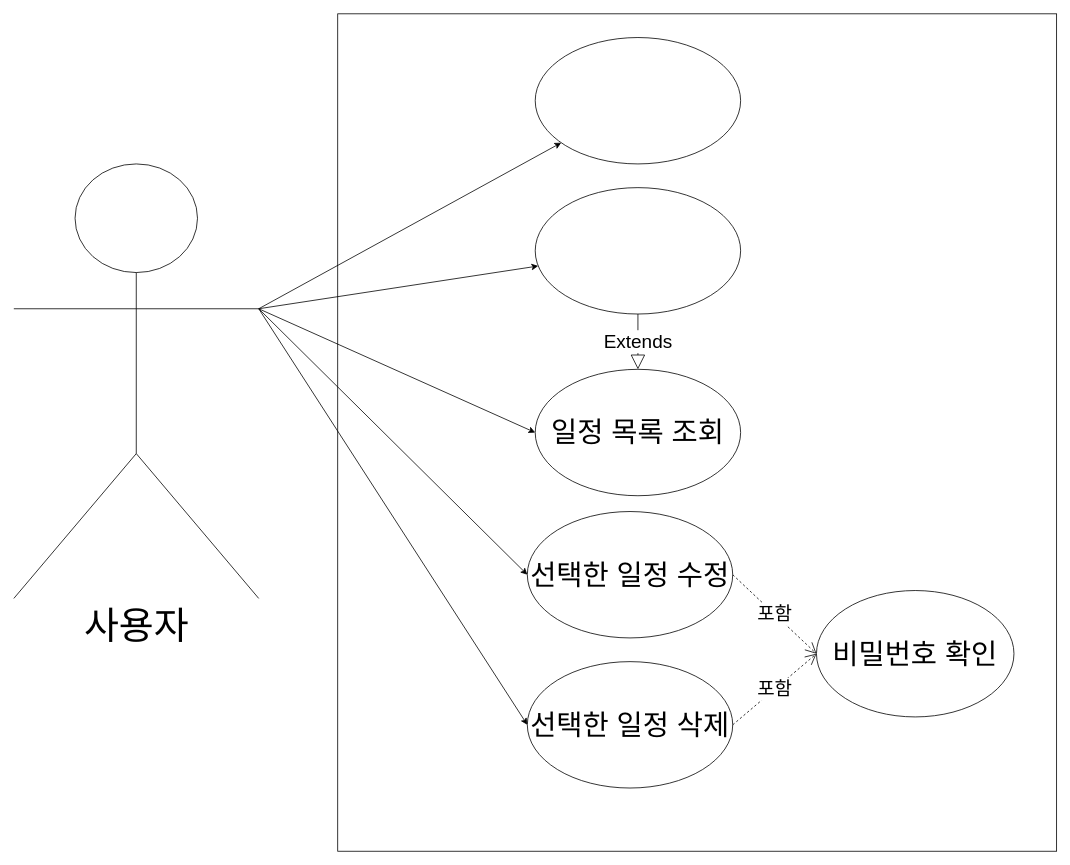
Image size: 1070x865. Some labels were removed from this diagram. Each missing label, with the box of its shape:
선택한 일정 조회: (534, 187, 741, 314)
일정 작성: (534, 37, 741, 164)
